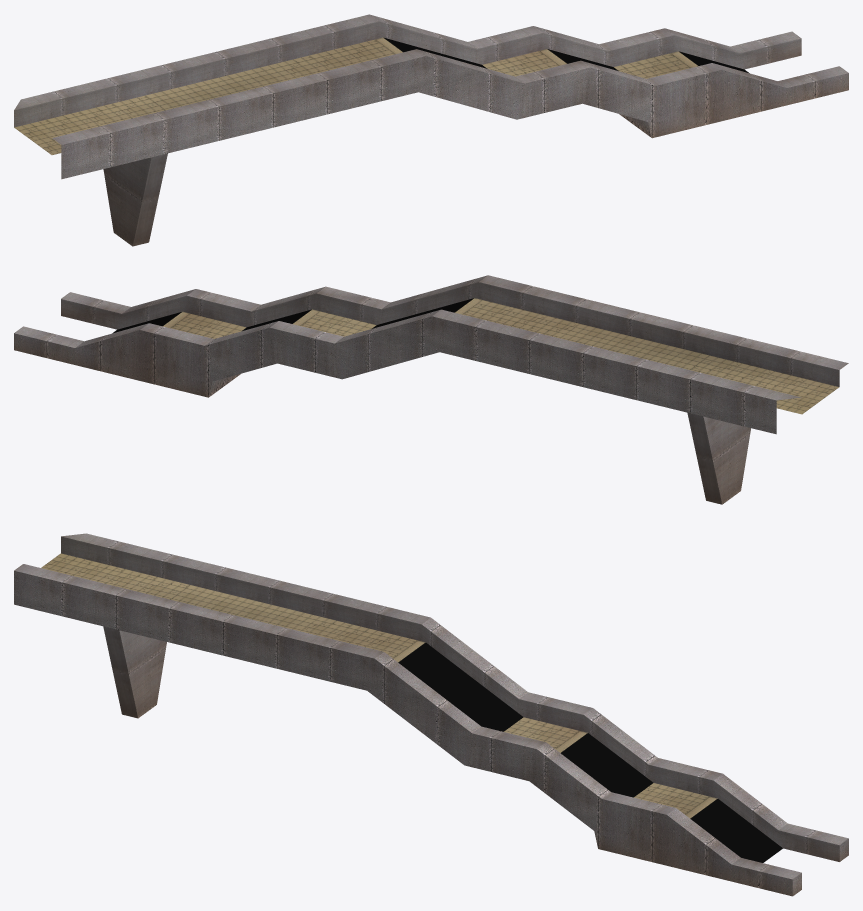
The model's file is M2_Zone4_FlyOver4.glb.
The picture shows the model from 3 angles, top to bottom: view 1: azimuth 30°, elevation 25°; view 2: azimuth 150°, elevation 25°; view 3: azimuth 330°, elevation 25°; orthographic projection.
Parts seen in each view (by area): view 1: M2_ZONE4_FLYOVER4; view 2: M2_ZONE4_FLYOVER4; view 3: M2_ZONE4_FLYOVER4.
Part boxes in pixels (x1=…): M2_ZONE4_FLYOVER4: x1=14, y1=14, x2=848, y2=246; M2_ZONE4_FLYOVER4: x1=14, y1=275, x2=848, y2=504; M2_ZONE4_FLYOVER4: x1=14, y1=533, x2=848, y2=896.
Size of the model in its own units: 48 by 8 by 6.
5 materials, 4 textured.
